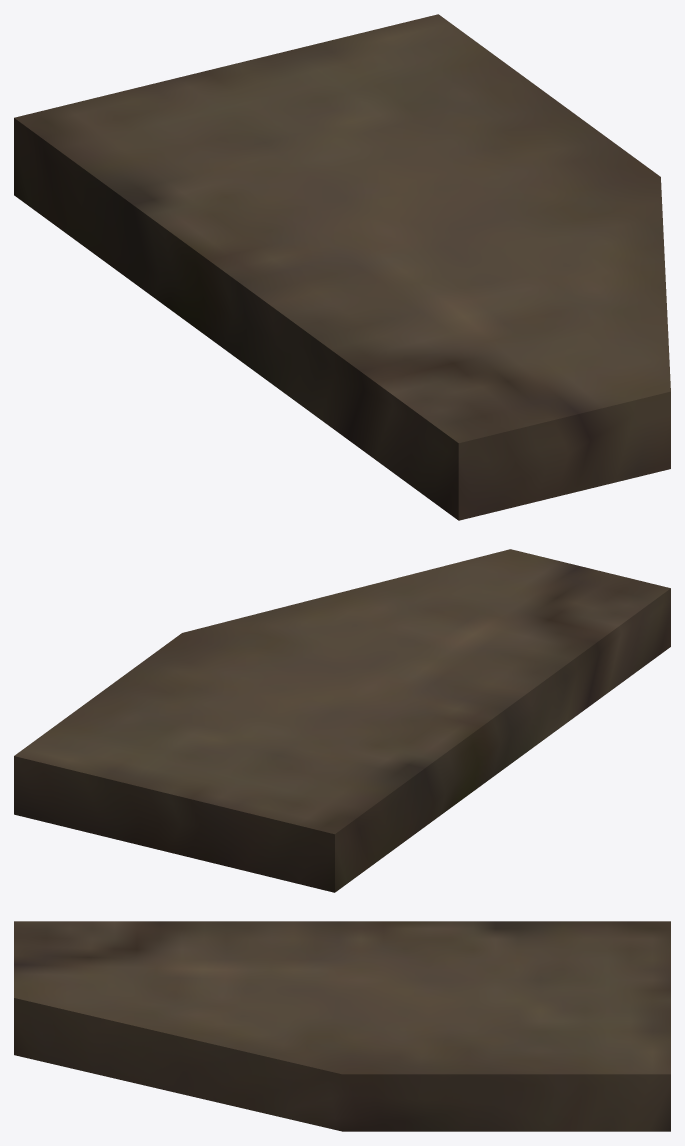
Rendered from slsd_shitoui_01.FBX.
The picture shows the model from 3 angles, top to bottom: view 1: azimuth 30°, elevation 25°; view 2: azimuth 150°, elevation 25°; view 3: azimuth 270°, elevation 25°; orthographic projection. The views are drawn at different scales.
Parts seen in each view (by area): view 1: slsd_shitoui_01; view 2: slsd_shitoui_01; view 3: slsd_shitoui_01.
Part boxes in pixels (<box>): slsd_shitoui_01: <box>14,14,670,520</box>; slsd_shitoui_01: <box>14,549,670,892</box>; slsd_shitoui_01: <box>14,921,670,1131</box>.
Bounding box in the file's own units: 88.83 × 15.49 × 161.
